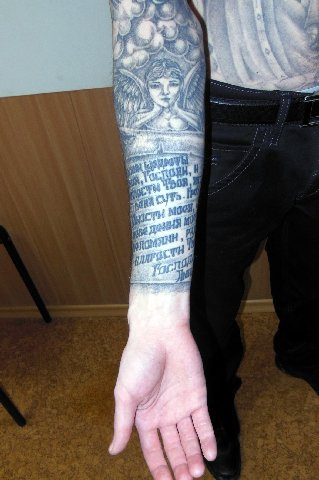tatu1_angel: (117, 53, 213, 151)
